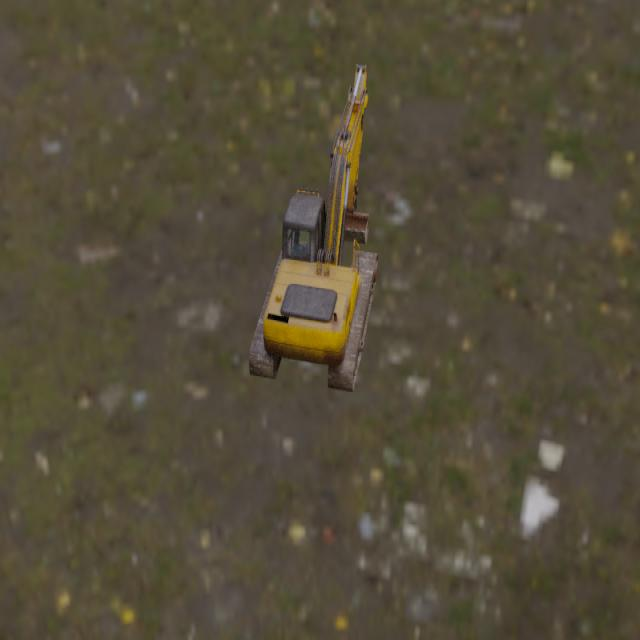excavator: (248, 63, 378, 392)
